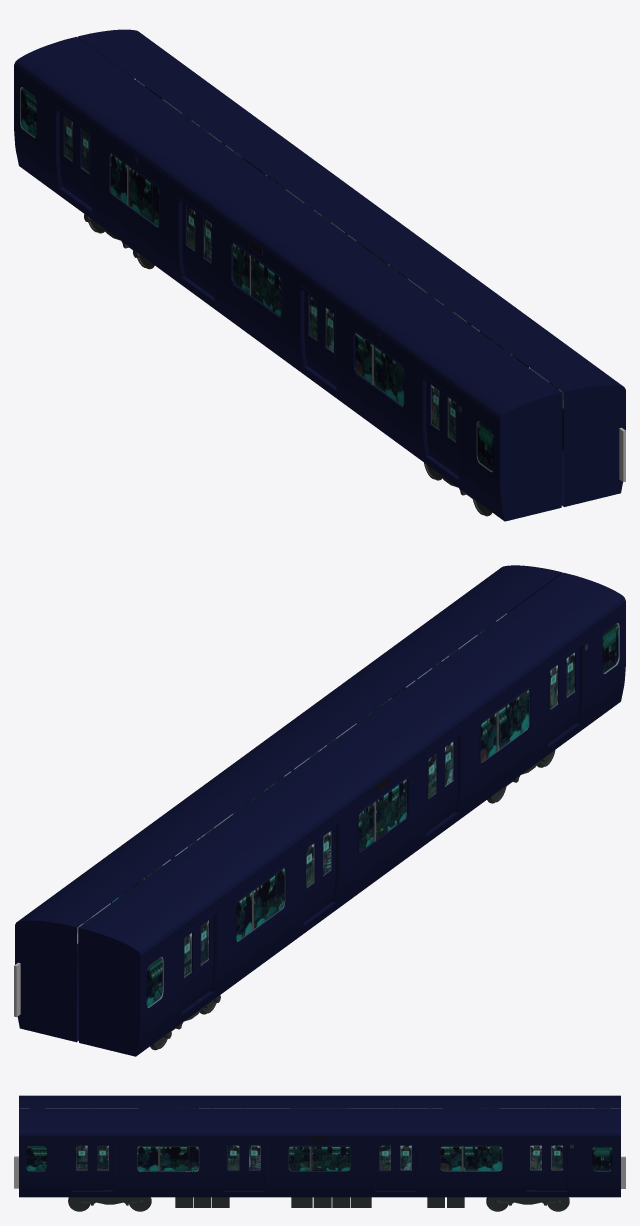
File: soutetu.glb
The picture shows the model from 3 angles, top to bottom: view 1: azimuth 30°, elevation 25°; view 2: azimuth 150°, elevation 25°; view 3: azimuth 270°, elevation 25°; orthographic projection. The views are drawn at different scales.
Visible parts, largest first — view 1: train_bode.001, train_bode.008, pic, pic.001; view 2: train_bode.001, train_bode.008, pic, pic.001; view 3: train_bode.008, train_bode.001, pic.003, pic.002, 円柱, 円柱.007, 立方体.064, 立方体.003, pic, pic.001, 立方体.072, 立方体.075 (+2 smaller).
Part boxes in pixels (x1,y1,x2,y2): train_bode.001: (14, 37, 562, 521); train_bode.008: (77, 29, 625, 506); pic: (20, 87, 493, 472); pic.001: (64, 116, 455, 441); train_bode.001: (78, 572, 625, 1056); train_bode.008: (15, 565, 562, 1042); pic: (146, 623, 619, 1007); pic.001: (184, 652, 574, 977); train_bode.008: (19, 1108, 620, 1197); train_bode.001: (19, 1095, 620, 1108); pic.003: (26, 1146, 612, 1171); pic.002: (76, 1145, 562, 1170); 円柱: (68, 1197, 151, 1211); 円柱.007: (486, 1197, 569, 1211); 立方体.064: (75, 1197, 144, 1205); 立方体.003: (493, 1197, 562, 1205); pic: (25, 1108, 615, 1108); pic.001: (19, 1108, 620, 1108); 立方体.072: (350, 1197, 371, 1207); 立方体.075: (291, 1197, 312, 1207).
Bounding box in the file's own units: 2.06 × 2.45 × 13.83.
24 materials, 4 textured.
